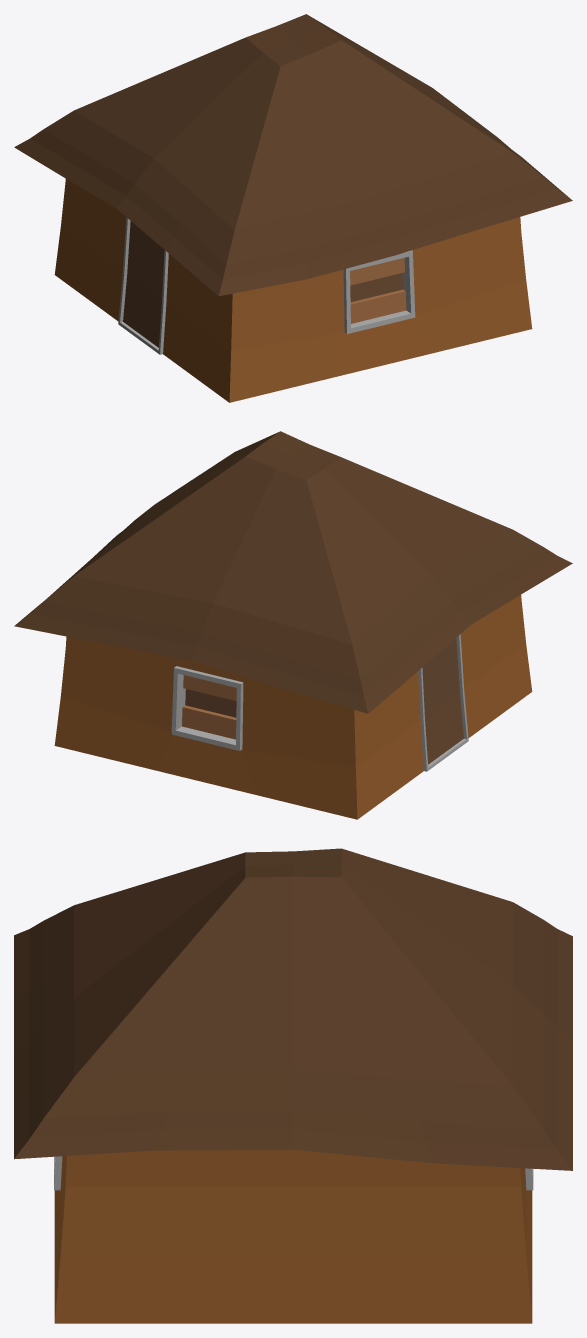
The model's file is Hut3.fbx.
3 renders of one model, top to bottom at view 1: azimuth 30°, elevation 25°; view 2: azimuth 150°, elevation 25°; view 3: azimuth 270°, elevation 25°, orthographic. The views are drawn at different scales.
Visible parts, largest first — view 1: Cone, Cylinder; view 2: Cone, Cylinder; view 3: Cone, Cylinder.
Part boxes in pixels (x1=…): Cone: x1=14, y1=14, x2=572, y2=296; Cylinder: x1=54, y1=179, x2=532, y2=402; Cone: x1=14, y1=431, x2=572, y2=713; Cylinder: x1=54, y1=595, x2=532, y2=819; Cone: x1=14, y1=848, x2=572, y2=1170; Cylinder: x1=54, y1=1149, x2=533, y2=1323.
Size of the model in its own units: 2204 by 1593 by 2204.
